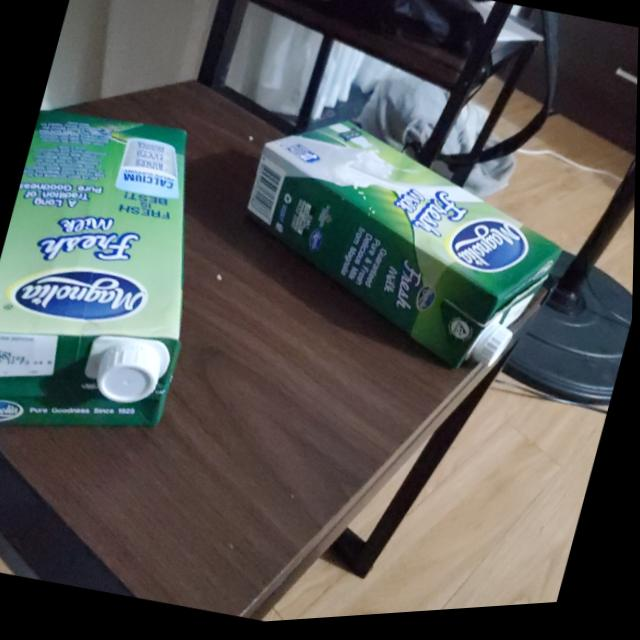milk: (216, 88, 594, 404), (0, 87, 243, 481)
